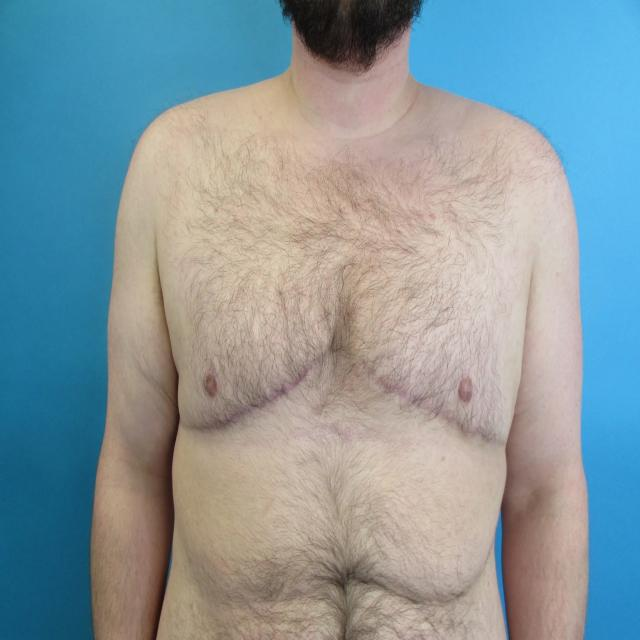Seno herido: (349, 230, 524, 457), (170, 229, 335, 456)
